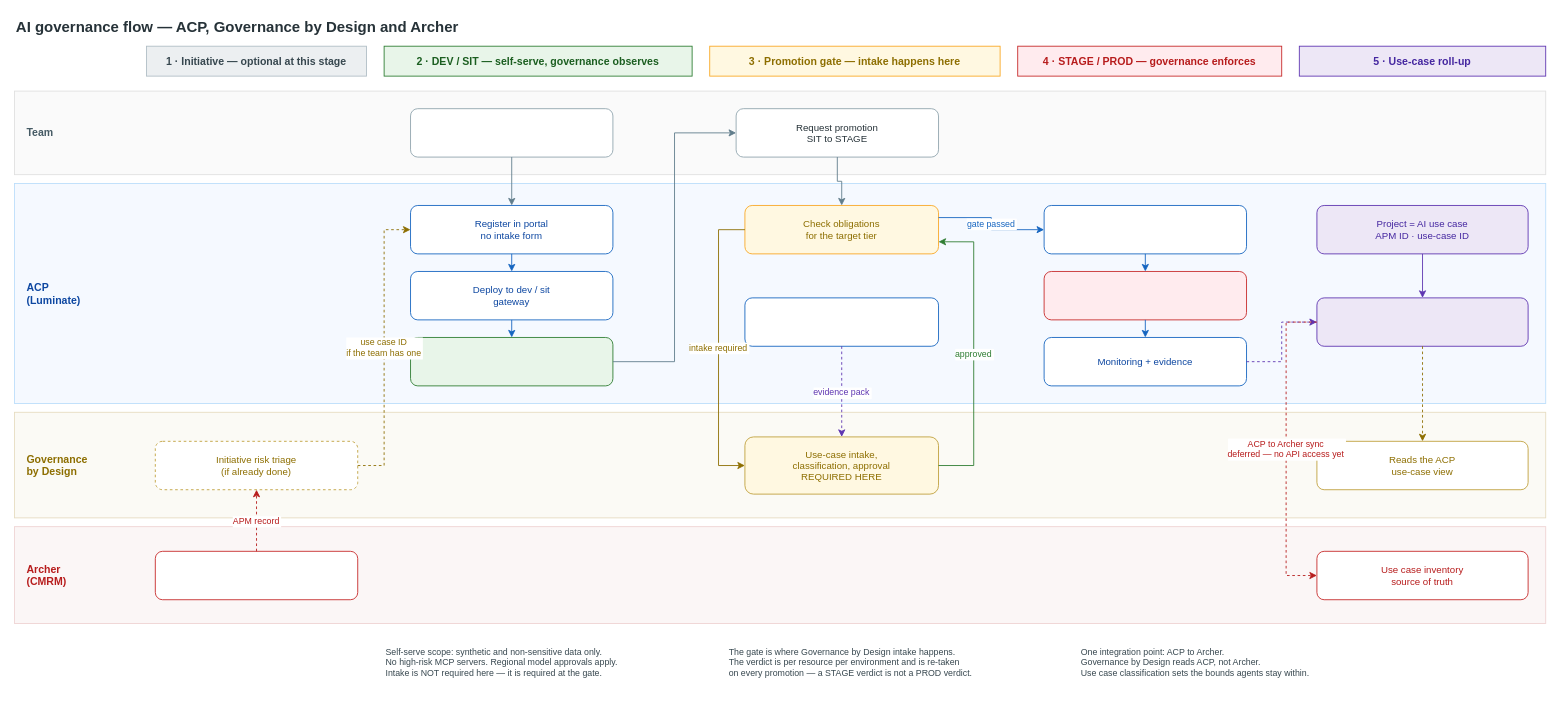
This 1560x705 diagram has some shape labels left out. Each missing label, with the box of its shape:
AI Product / APM records: (154, 550, 358, 600)
Build agent, model or MCP server: (410, 108, 613, 157)
Deploy to stage / prod gateway: (1043, 205, 1247, 254)
Gateway enforces deny until compliant: (1043, 271, 1247, 320)
Risk tiering runs observe only: (410, 337, 613, 386)
Roll up project into a use-case pack: (744, 297, 939, 346)
Use-case inventory stands in for Archer: (1316, 297, 1528, 346)
